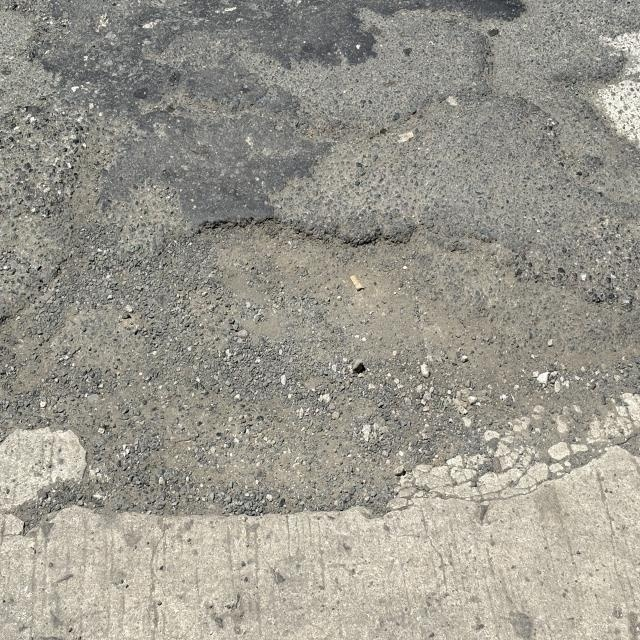pothole: (216, 216, 545, 388)
